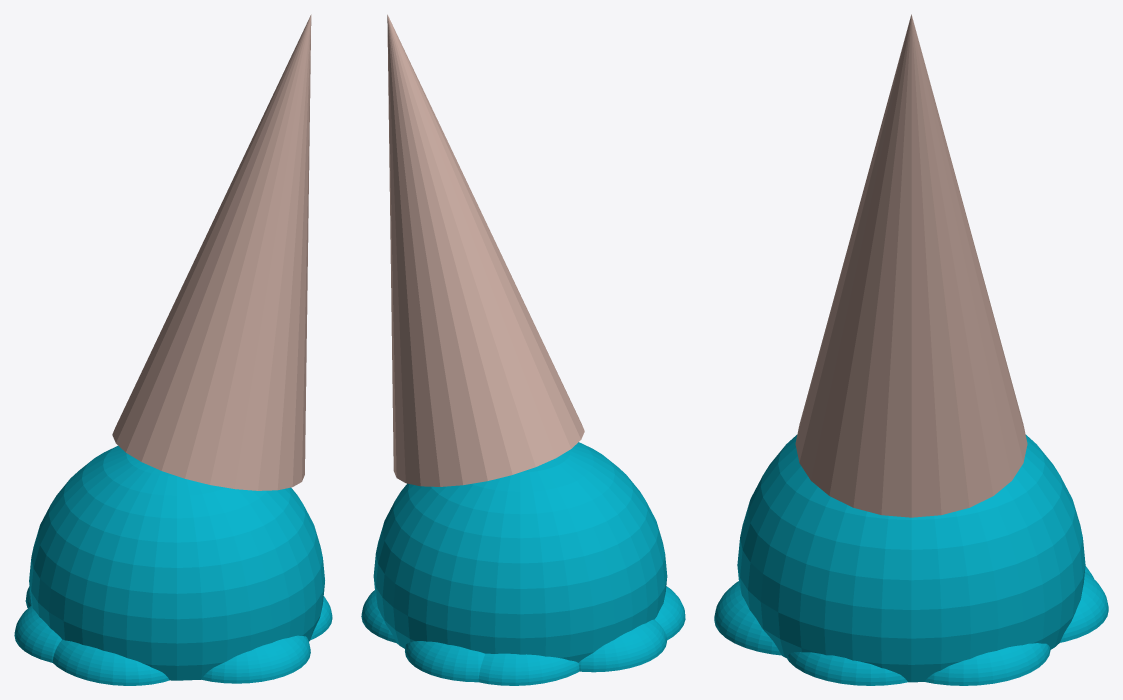
The model's file is Melted Icecream.glb.
The picture shows the model from 3 angles, left to right: view 1: azimuth 30°, elevation 25°; view 2: azimuth 150°, elevation 25°; view 3: azimuth 270°, elevation 25°; orthographic projection. The views are drawn at different scales.
Visible parts, largest first — view 1: Mesh_Mesh_head_geo.001_lambert2SG.001; view 2: Mesh_Mesh_head_geo.001_lambert2SG.001; view 3: Mesh_Mesh_head_geo.001_lambert2SG.001.
Part boxes in pixels (x1=…): Mesh_Mesh_head_geo.001_lambert2SG.001: x1=14, y1=14, x2=332, y2=685; Mesh_Mesh_head_geo.001_lambert2SG.001: x1=361, y1=14, x2=685, y2=685; Mesh_Mesh_head_geo.001_lambert2SG.001: x1=714, y1=14, x2=1108, y2=685.
Size of the model in its own units: 32.7 by 64.21 by 34.
